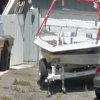Boat: (28, 16, 100, 88)
